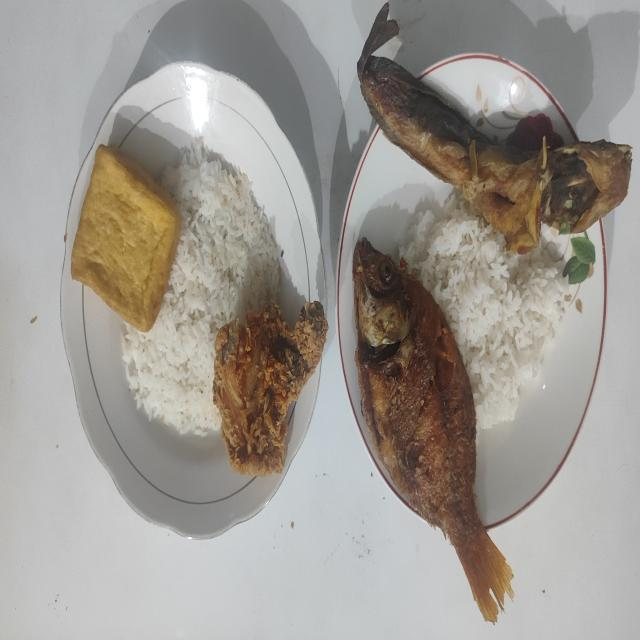ikan_mujair: (352, 238, 514, 622)
nasi_putih: (122, 138, 283, 434), (397, 190, 569, 429)
tahu_goreng: (71, 145, 181, 331)
